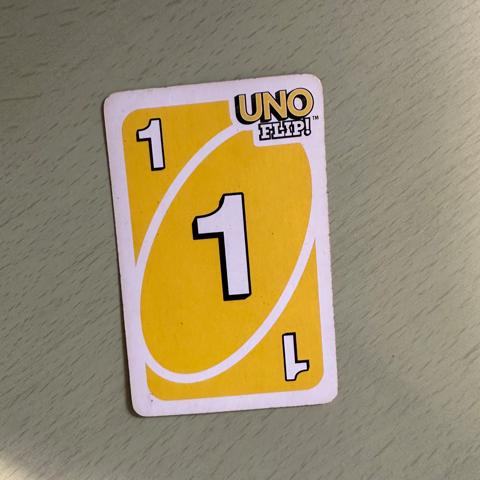lyellow-1: (116, 102, 194, 194)
